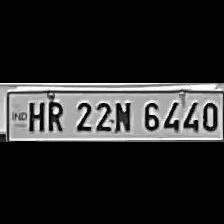0: (199, 98, 219, 130)
2: (70, 97, 93, 131), (92, 97, 112, 131)
4: (160, 96, 180, 132), (180, 96, 200, 132)
6: (136, 97, 160, 131)
H: (24, 97, 43, 131)
N: (111, 96, 133, 132)
R: (43, 96, 65, 132)
